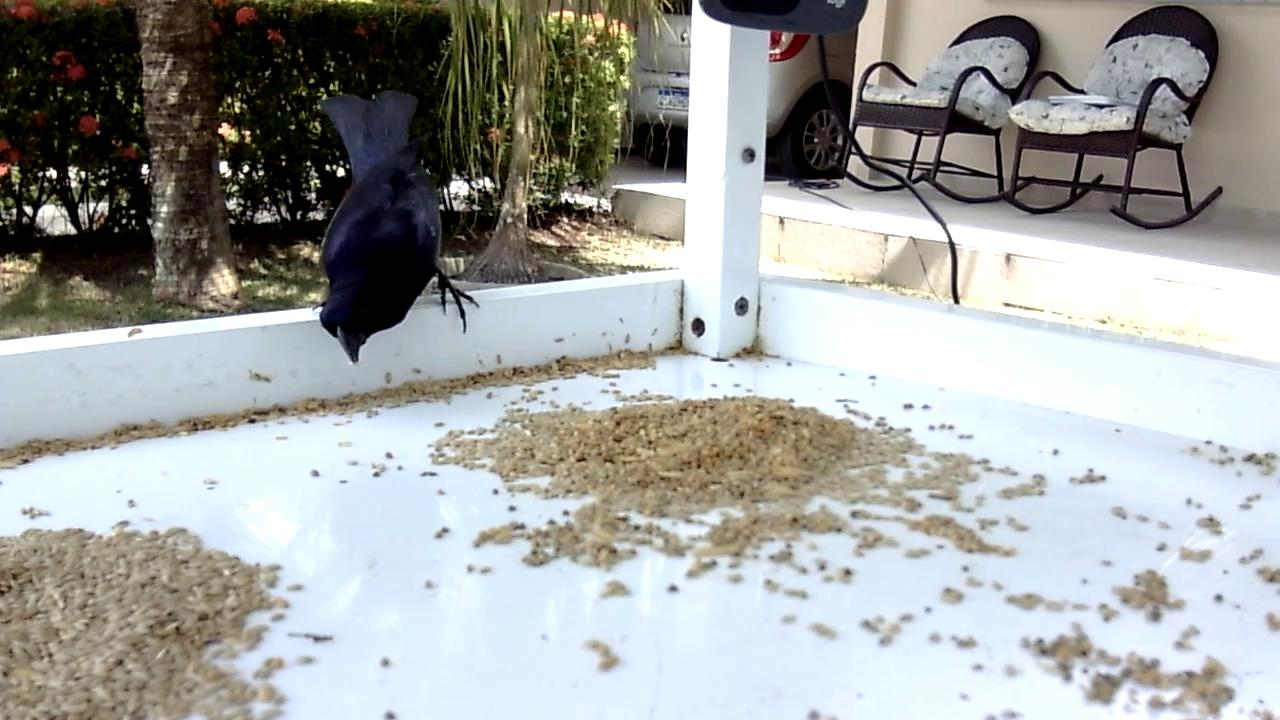chupim: (311, 90, 483, 370)
